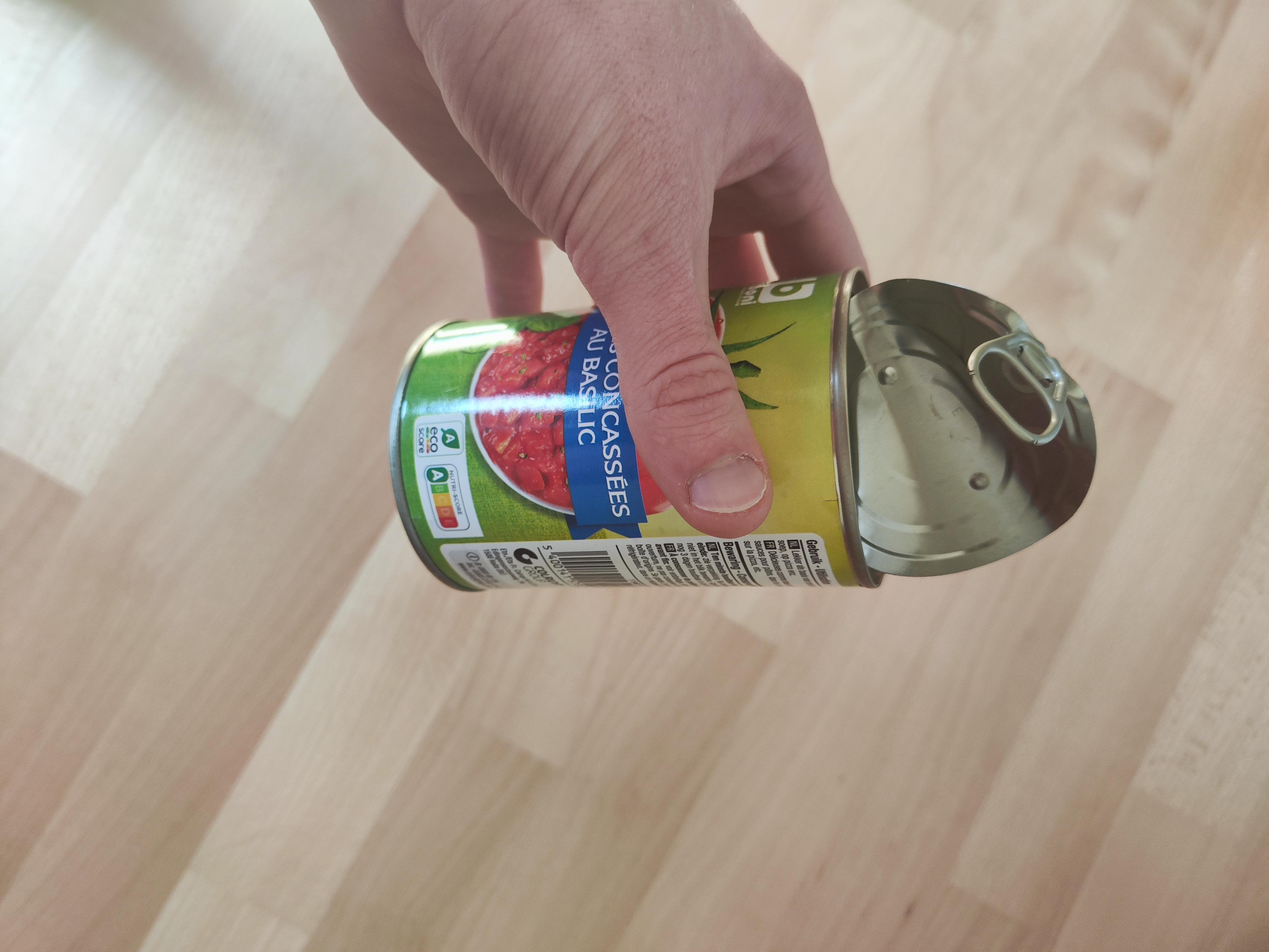Metal: (396, 274, 1099, 594)
